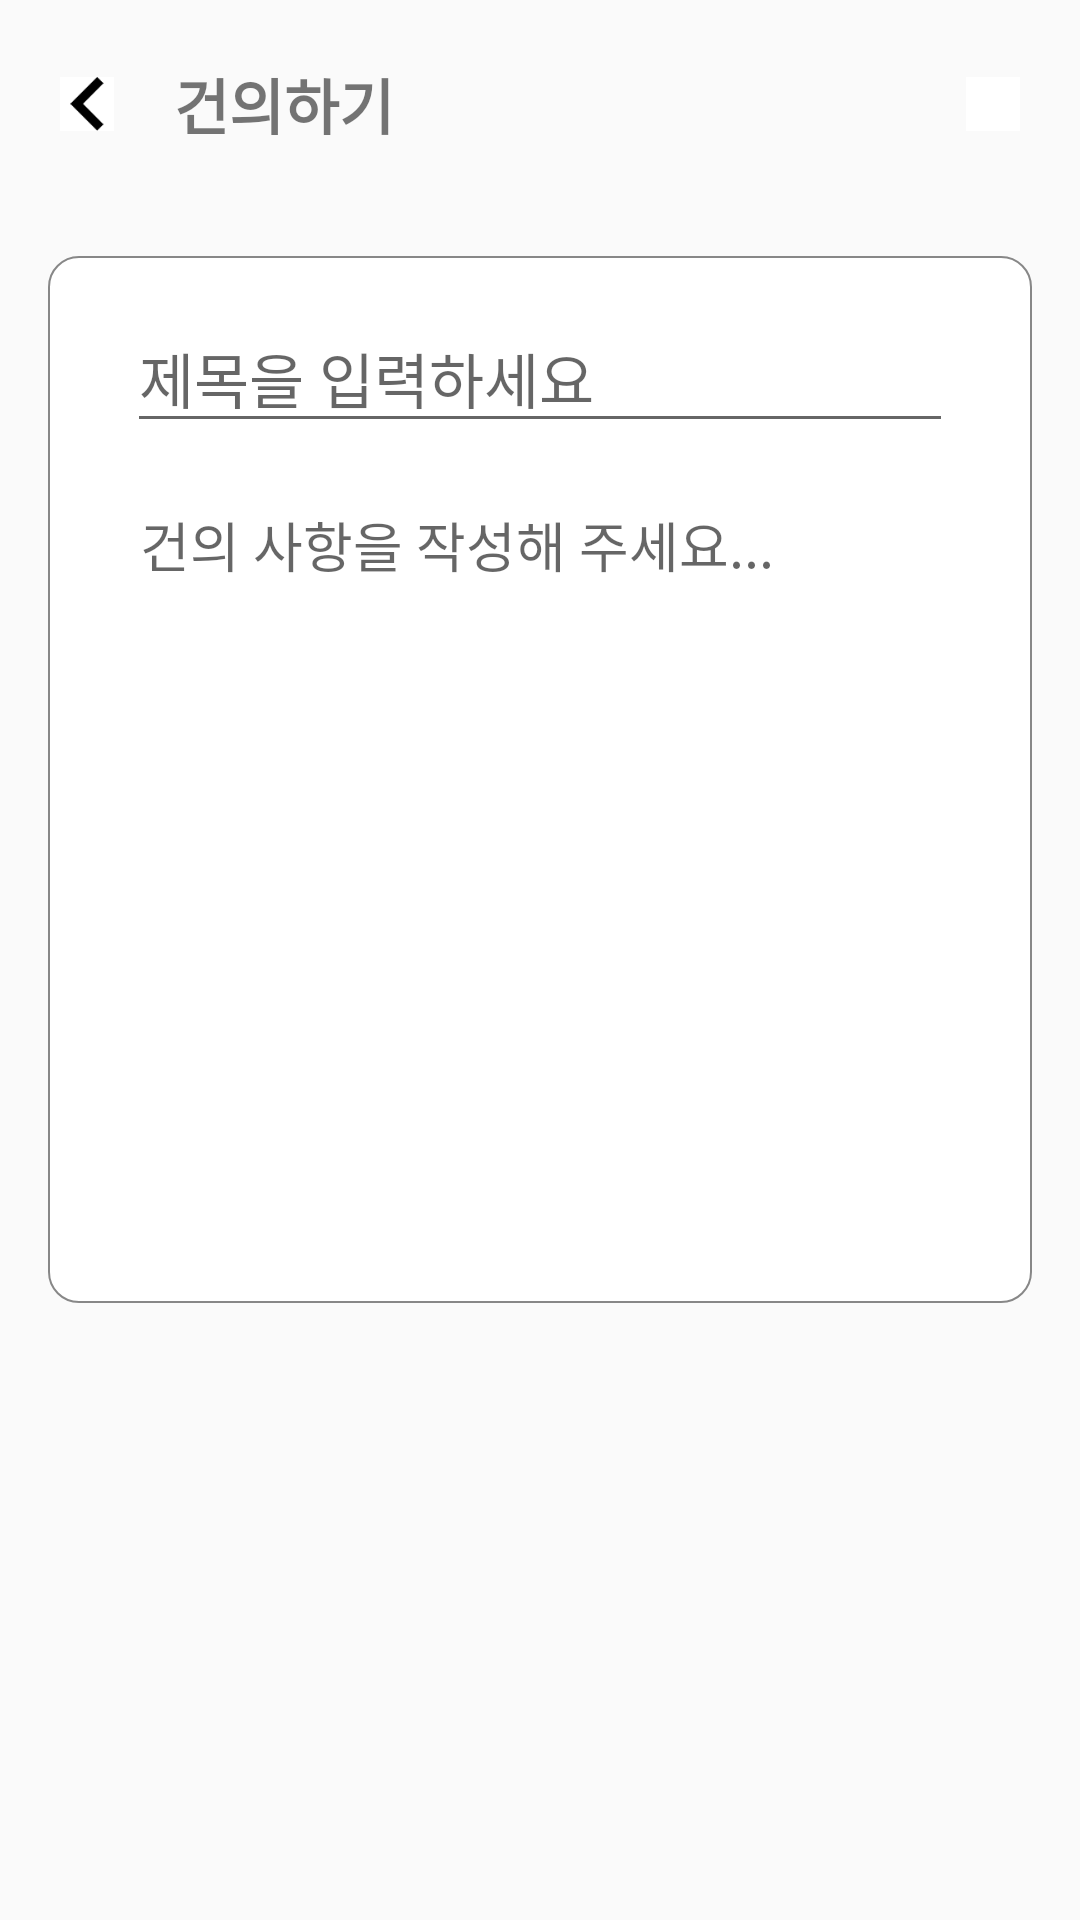

Icon click points for this 1080x1920 phone screenshot, format [x,y]:
arrow left: [87,104]
